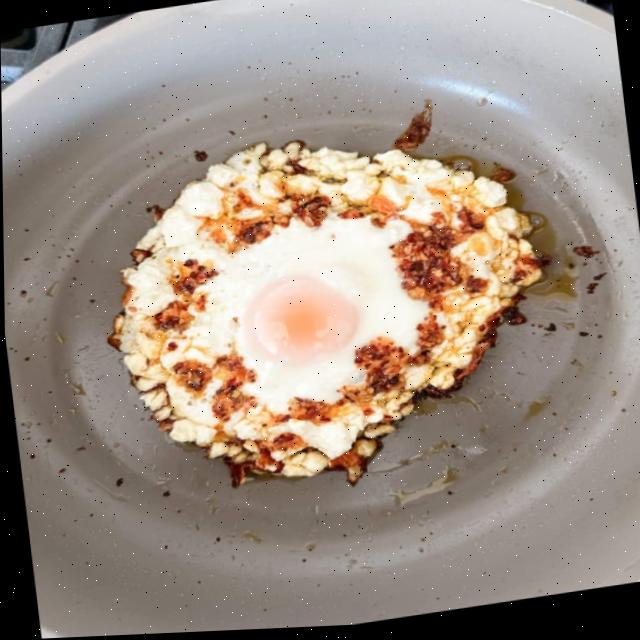Egg: (109, 144, 541, 485)
